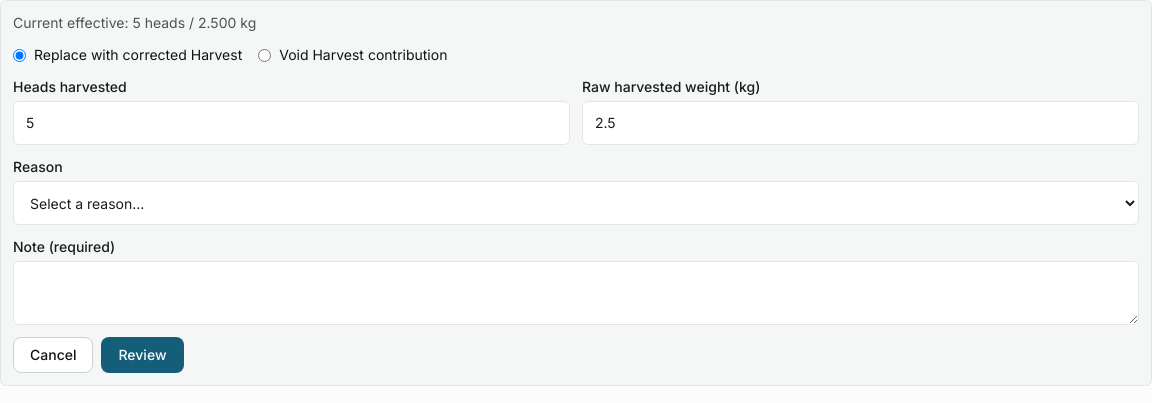
Test: CorrectHarvestForm biological population wording › same heads, changed weight only: no biological population change
Replace the text in the number field labelled "Raw harvested weight (kg)" with "3.000" at {"x": 860, "y": 123}, box x1=582 y1=101 x2=1139 y2=145
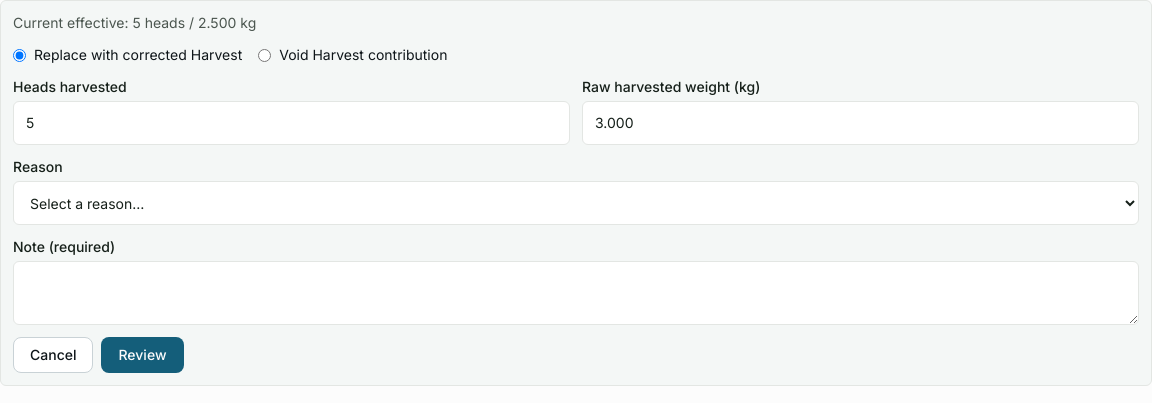
Select "Miscounted" in the dropdown labelled "Reason" at {"x": 576, "y": 203}, box x1=13 y1=181 x2=1139 y2=225
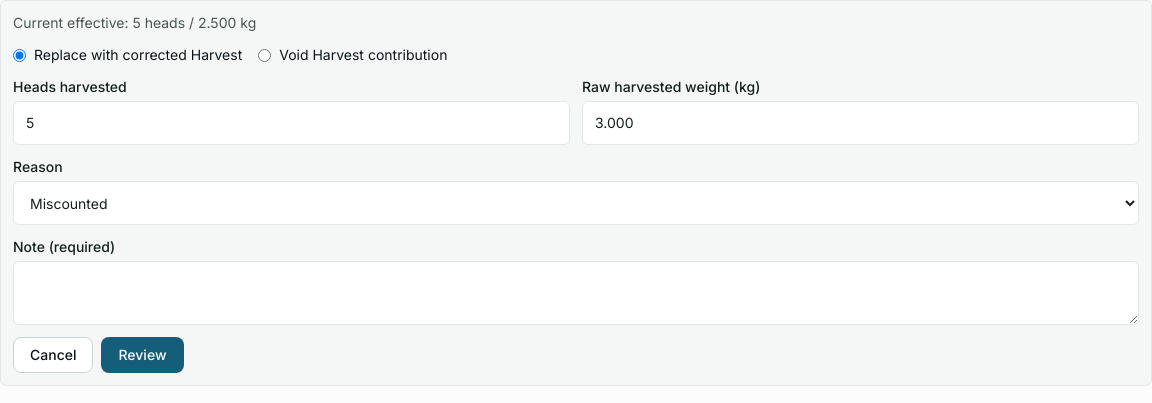
Type "Recount" into the text box labelled "Note (required)" at {"x": 576, "y": 293}, box x1=13 y1=261 x2=1139 y2=325
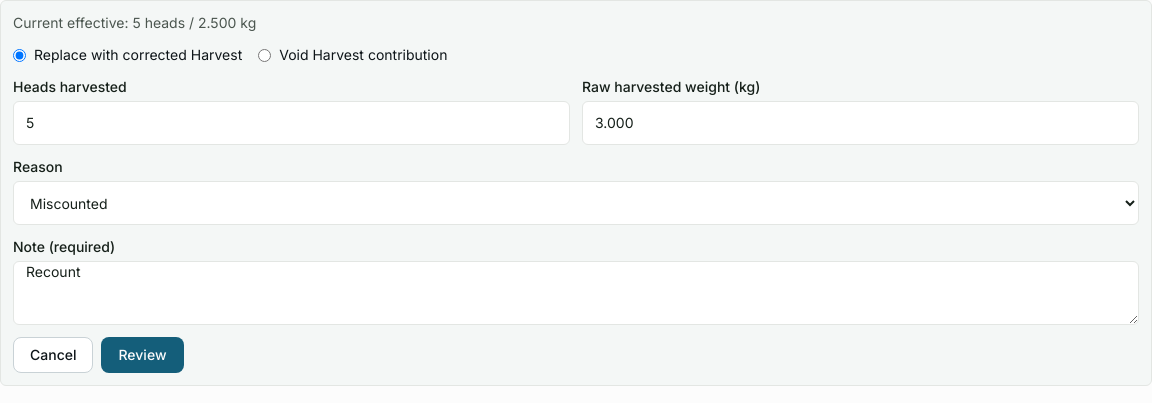
Click the button "Review" at {"x": 142, "y": 355}, box x1=102 y1=337 x2=184 y2=373
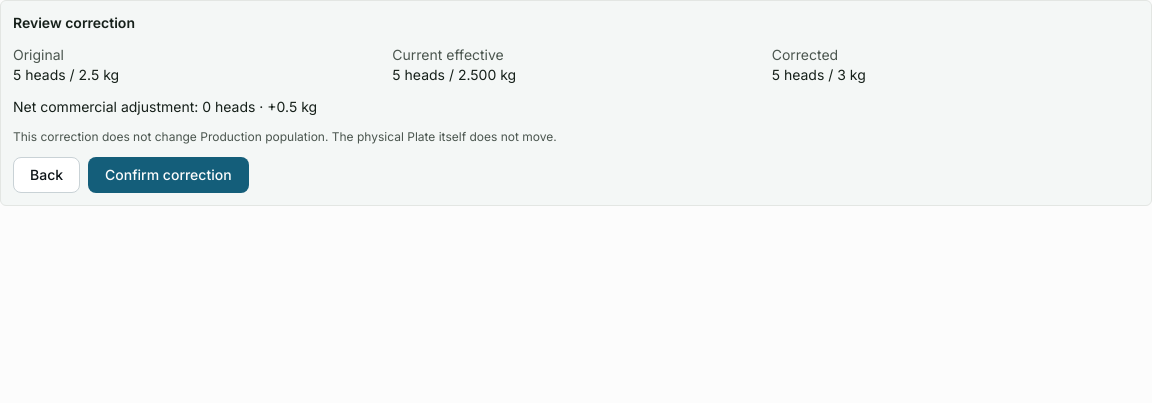
Check: the text "This correction does not change Production population. The physical Plate itself does not move." is shown, box x1=13 y1=129 x2=557 y2=144
Check: the text "Net commercial adjustment: 0 heads · +0.5 kg" is shown, box x1=13 y1=98 x2=317 y2=115
